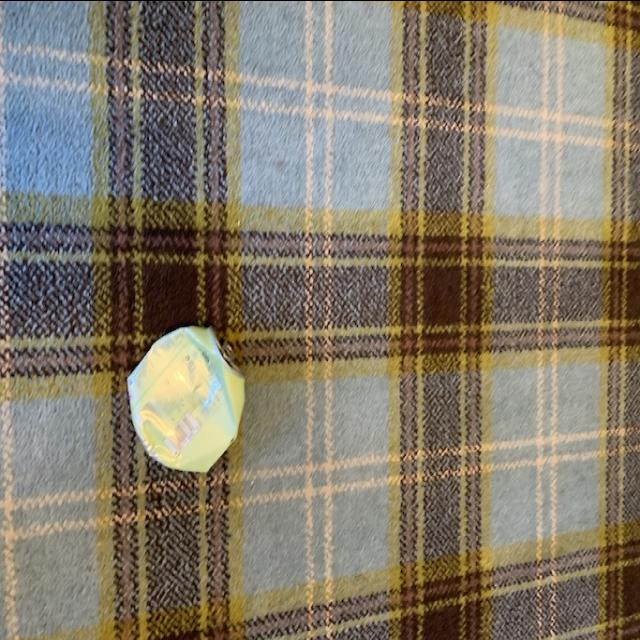Aluminum Can: (126, 312, 256, 473)
